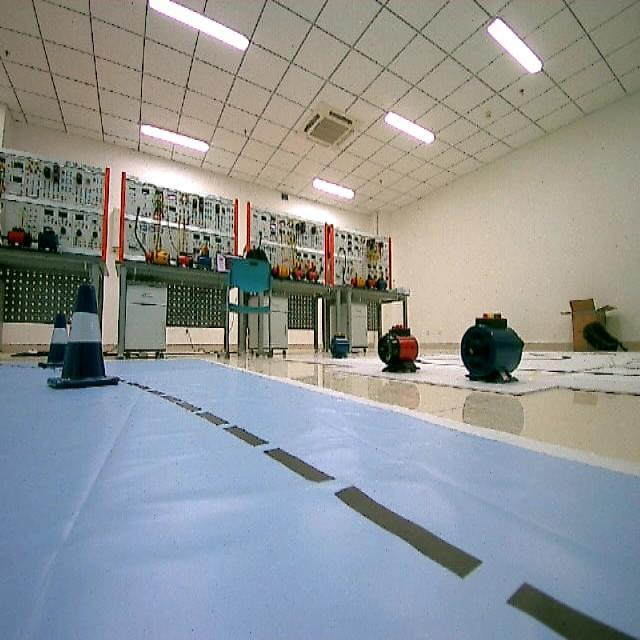obstacle: (40, 274, 124, 402), (39, 312, 74, 366)
